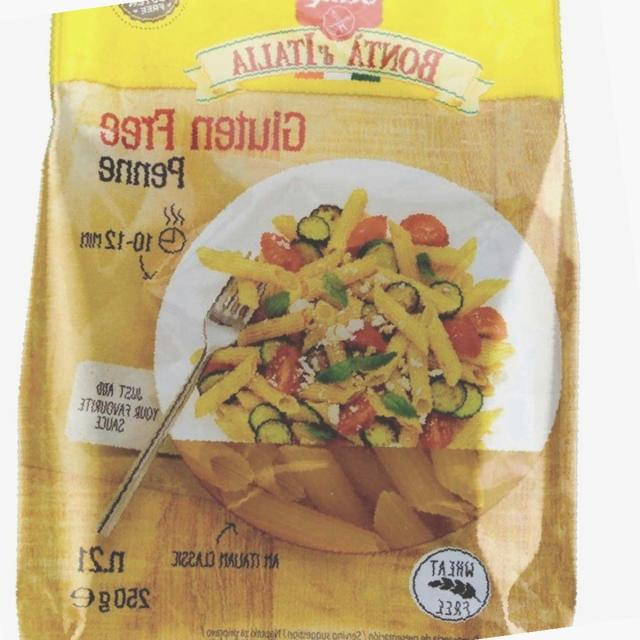pasta package: (18, 0, 577, 639)
